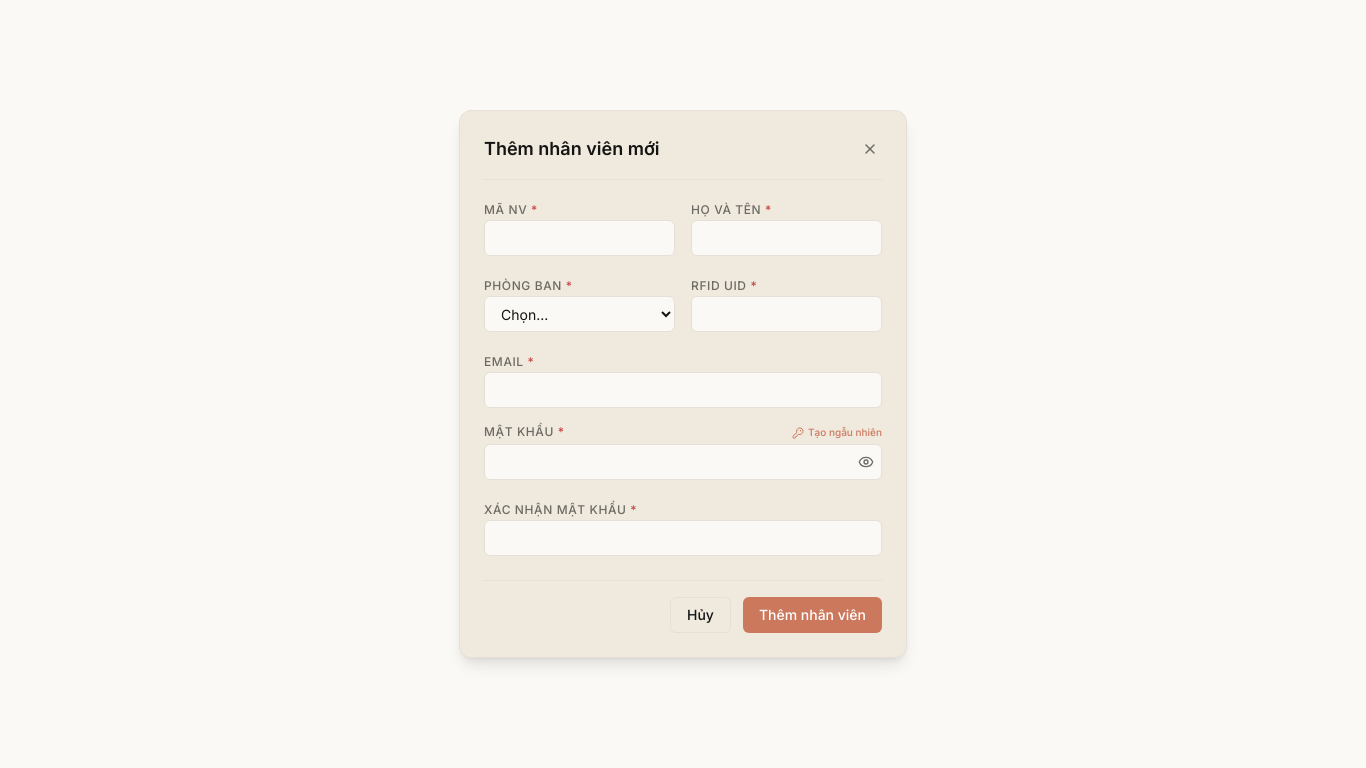
it: AddEmployeeModal › validates required fields on submit
Click the button "Thêm nhân viên" at (812, 615), box [743,597,882,633]
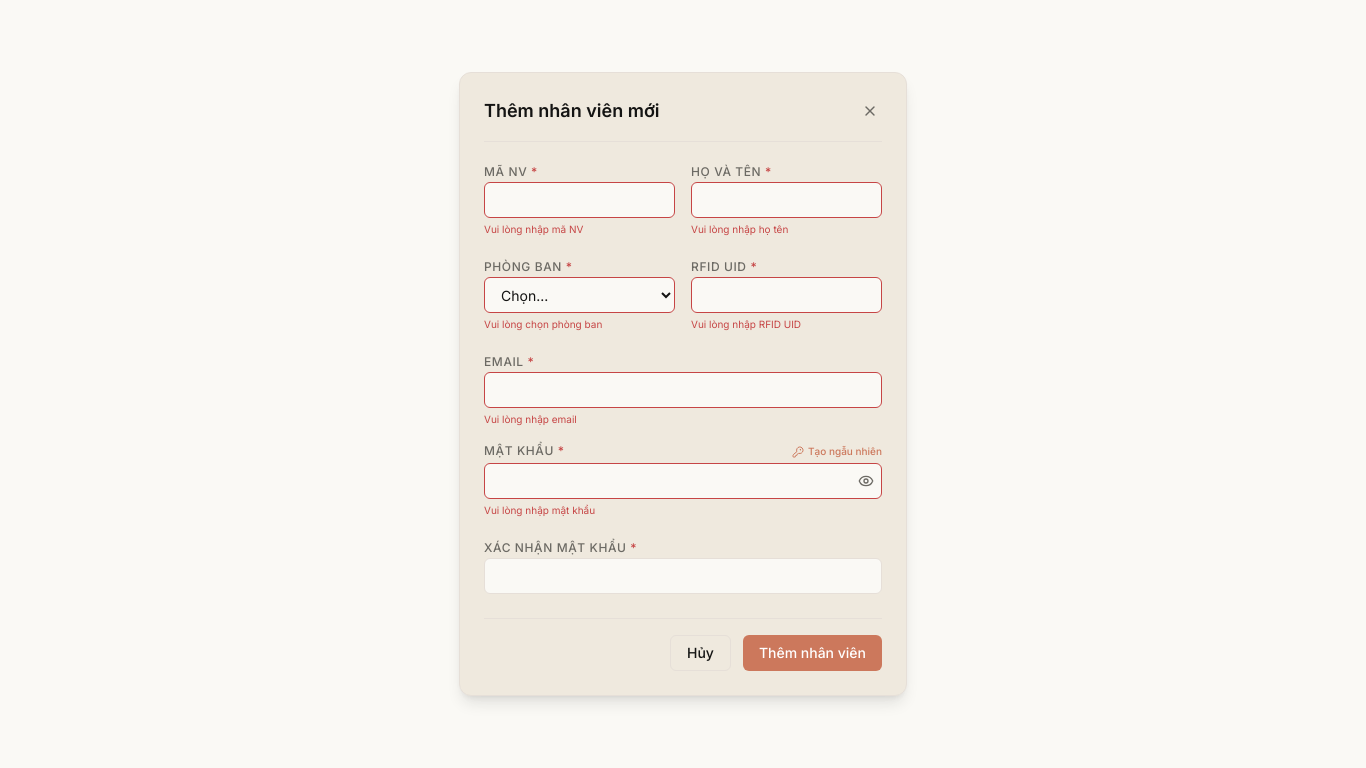
Check: the text "Vui lòng nhập họ tên" is shown, box [691,223,788,235]
Check: the text "Vui lòng nhập mã NV" is shown, box [484,223,583,235]
Check: the text "Vui lòng nhập email" is shown, box [484,413,577,425]
